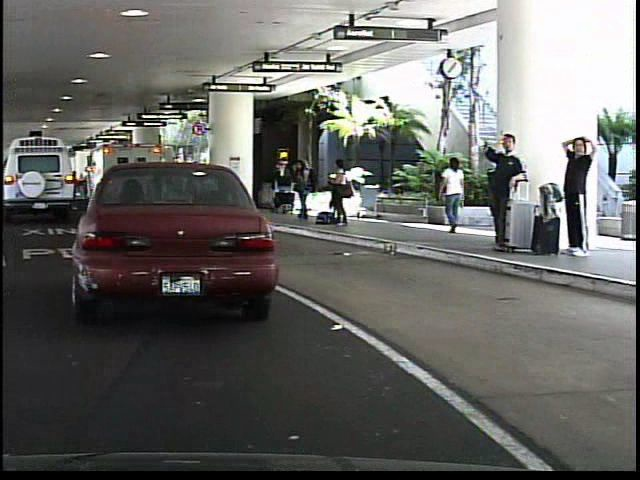person: (478, 129, 522, 253), (556, 125, 594, 258), (431, 154, 472, 235), (325, 157, 351, 227)
